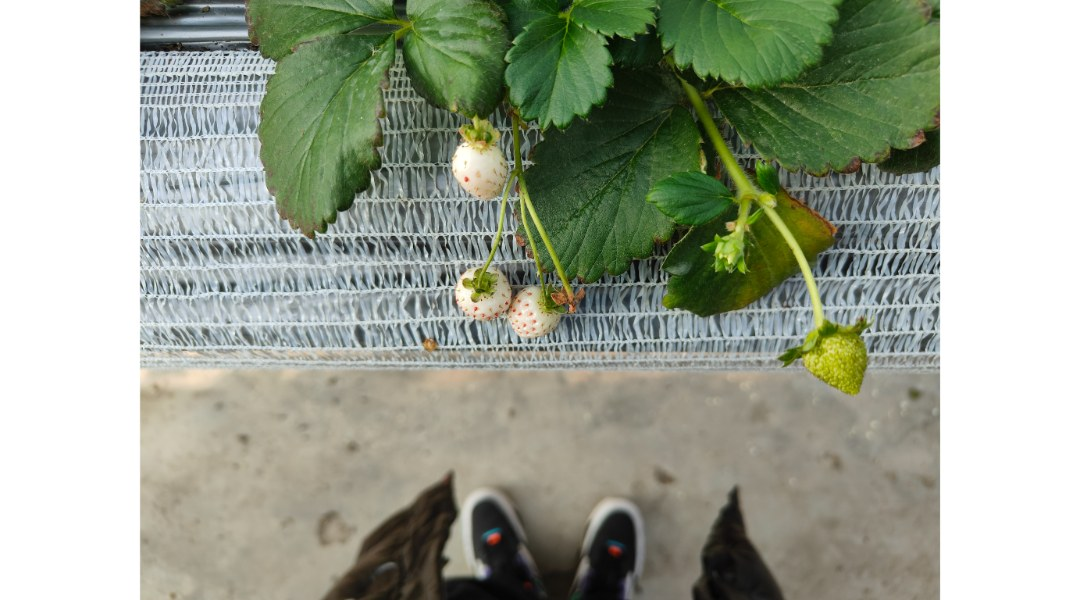berry: (446, 112, 511, 211), (791, 316, 870, 395), (454, 246, 501, 331), (510, 284, 570, 348), (702, 234, 753, 276)
strain: (688, 83, 747, 184), (768, 215, 831, 307), (528, 202, 581, 276), (518, 232, 539, 281)
